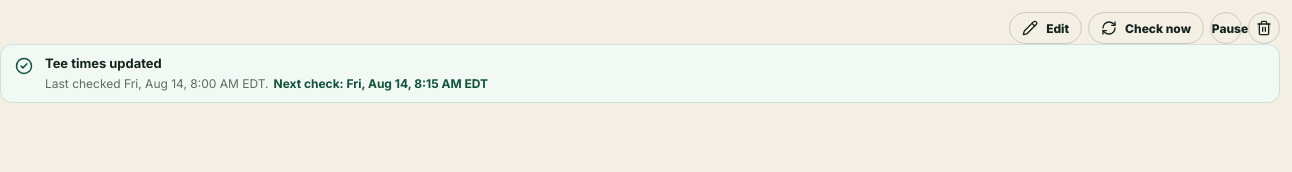
SearchStatusActions › shows an accepted pause as stopped before refreshed props arrive
Click the button with aria-label "Pause notifications".
click(1226, 28)  # box [1210, 12, 1242, 44]
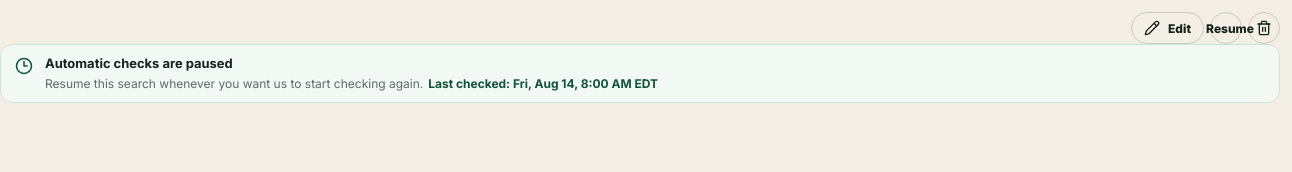
Expected: the text "Automatic checks are paused" is shown, [45, 55, 233, 71]
Expected: the button with aria-label "Resume notifications" is shown, [1210, 12, 1242, 44]
Expected: the button "Check now" is gone
